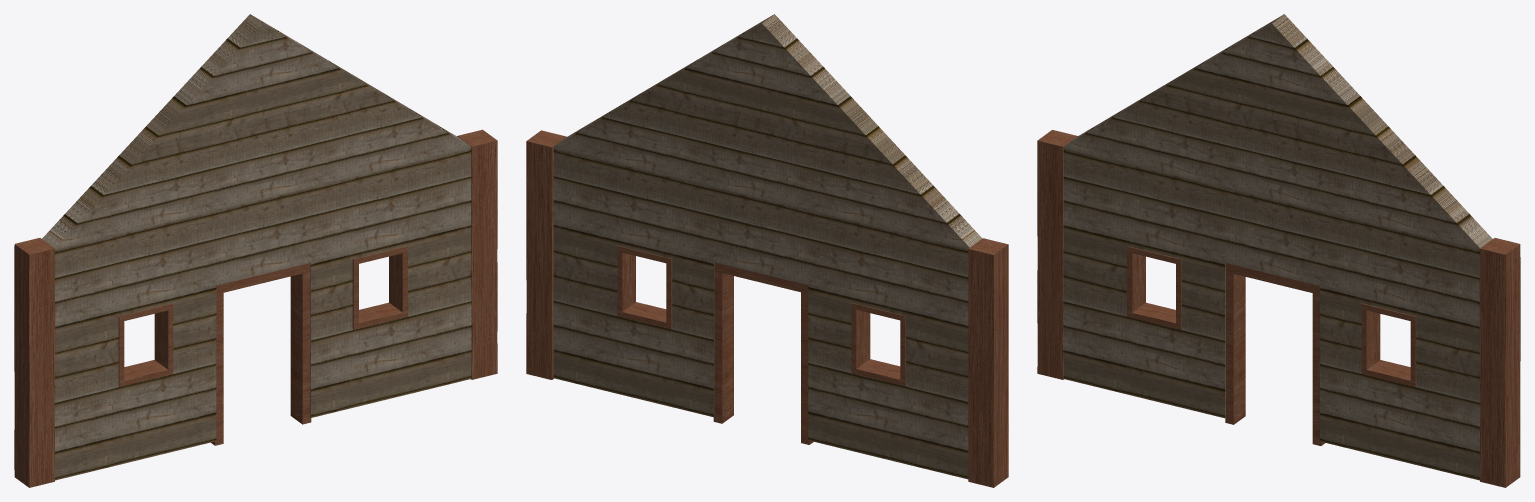
The model's file is R1_depan.fbx.
3 renders of one model, left to right at view 1: azimuth 30°, elevation 25°; view 2: azimuth 150°, elevation 25°; view 3: azimuth 330°, elevation 25°, orthographic.
Visible parts, largest first — view 1: R1.001; view 2: R1.001; view 3: R1.001.
Boxes of the visible parts, x1,y1,x2,y2 form: R1.001: [14, 14, 497, 487]; R1.001: [526, 14, 1008, 487]; R1.001: [1037, 14, 1520, 487].
Size of the model in its own units: 1490 by 1249 by 83.48.
Materials: 2 (2 with a texture image).
